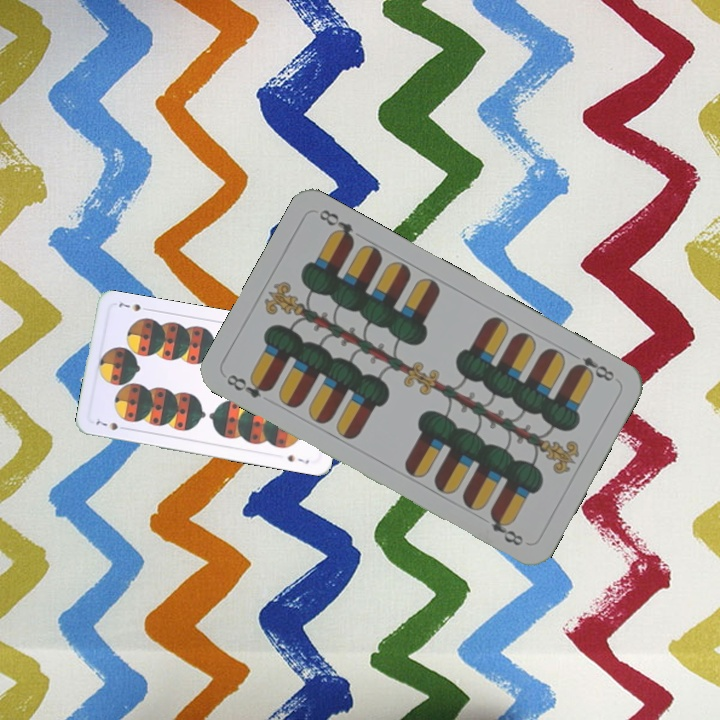E8: (566, 348, 617, 384), (222, 370, 274, 401)
S7: (92, 416, 130, 433)
